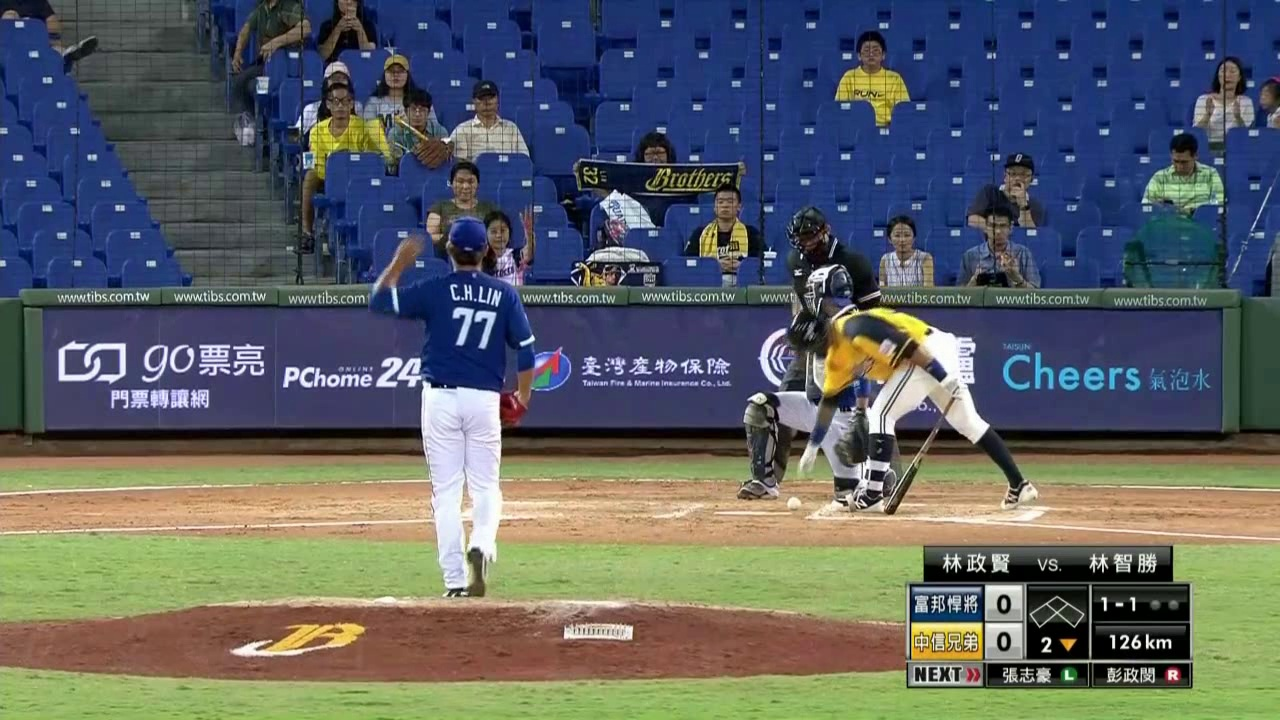ball: (784, 494, 805, 513)
base: (1028, 590, 1086, 629)
bat: (881, 385, 960, 518)
out: (1144, 587, 1186, 617)
score1: (987, 587, 1019, 618)
score2: (987, 625, 1020, 657)
session: (1026, 634, 1090, 660)
speed: (1093, 628, 1184, 655)
strikeball: (1093, 588, 1144, 619)
